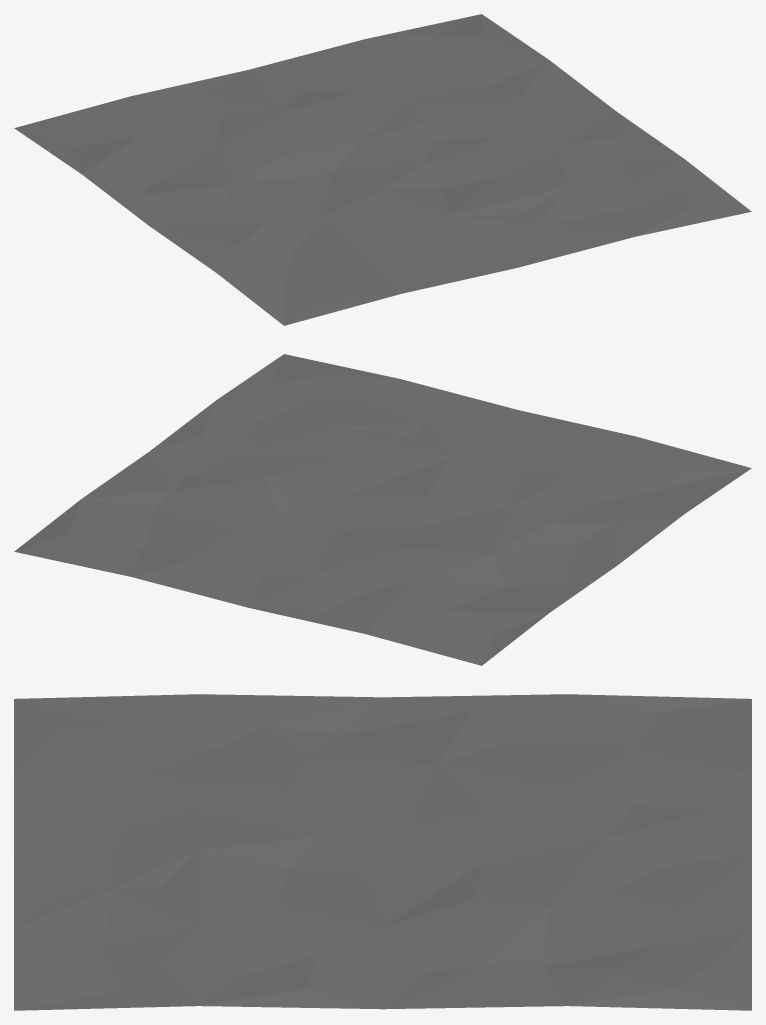
The model's file is Ground_sea01.FBX.
3 renders of one model, top to bottom at view 1: azimuth 30°, elevation 25°; view 2: azimuth 150°, elevation 25°; view 3: azimuth 270°, elevation 25°, orthographic. The views are drawn at different scales.
Visible parts, largest first — view 1: Ground_sea01; view 2: Ground_sea01; view 3: Ground_sea01.
Part boxes in pixels (<box>): Ground_sea01: <box>14,14,751,325</box>; Ground_sea01: <box>14,354,751,665</box>; Ground_sea01: <box>14,694,751,1010</box>.
Bounding box in the file's own units: 1500 × 13.59 × 1500.
Materials: 1 (1 with a texture image).
